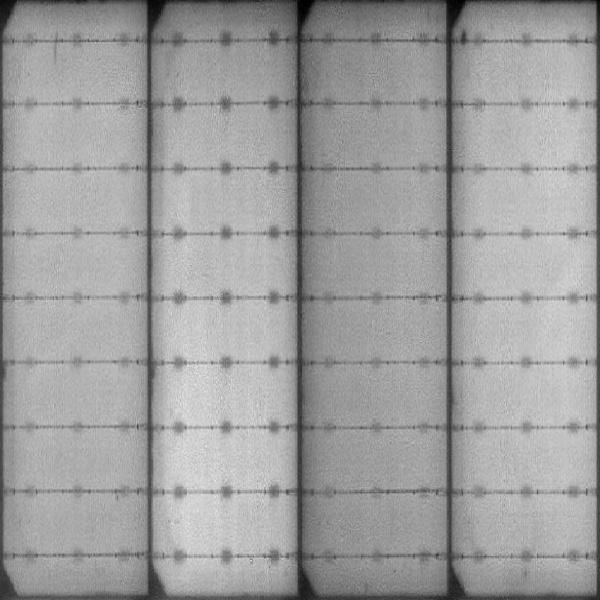scratch: (51, 32, 62, 73)
